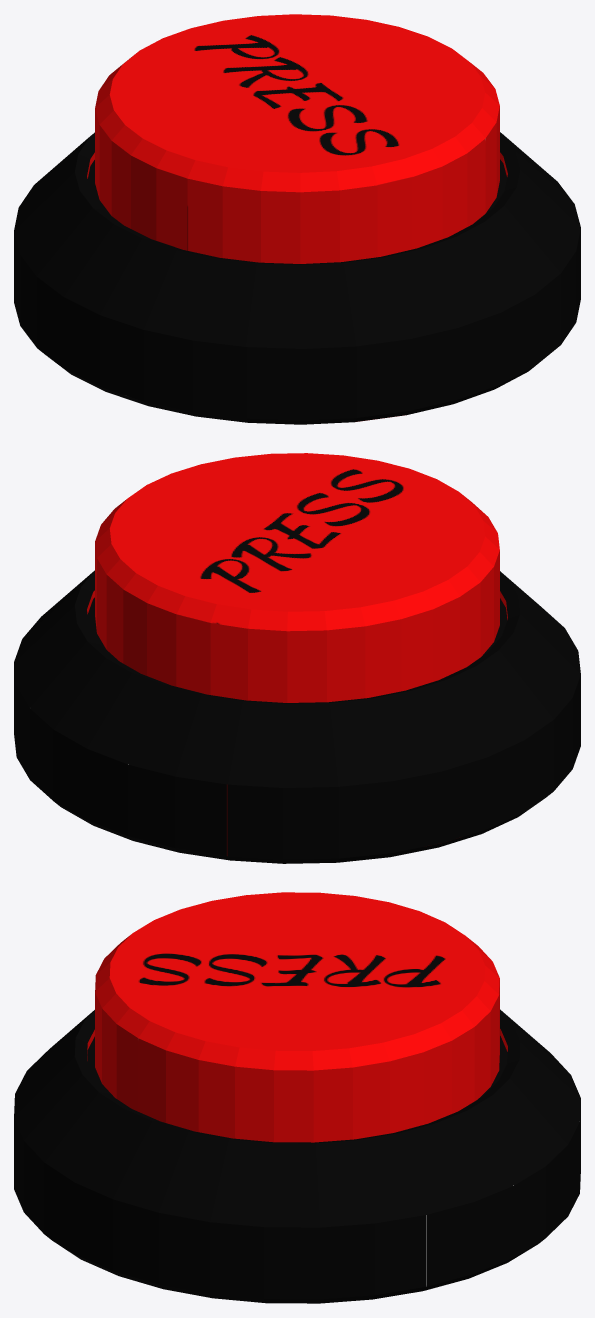
File: button.fbx
3 renders of one model, top to bottom at view 1: azimuth 30°, elevation 25°; view 2: azimuth 150°, elevation 25°; view 3: azimuth 270°, elevation 25°, orthographic.
Parts seen in each view (by area): view 1: Button; view 2: Button; view 3: Button.
Part boxes in pixels (bbox=[...]): Button: bbox=[14, 14, 580, 424]; Button: bbox=[14, 453, 580, 863]; Button: bbox=[14, 892, 580, 1303].
Size of the model in its own units: 0.0629 by 0.0264 by 0.0629.
